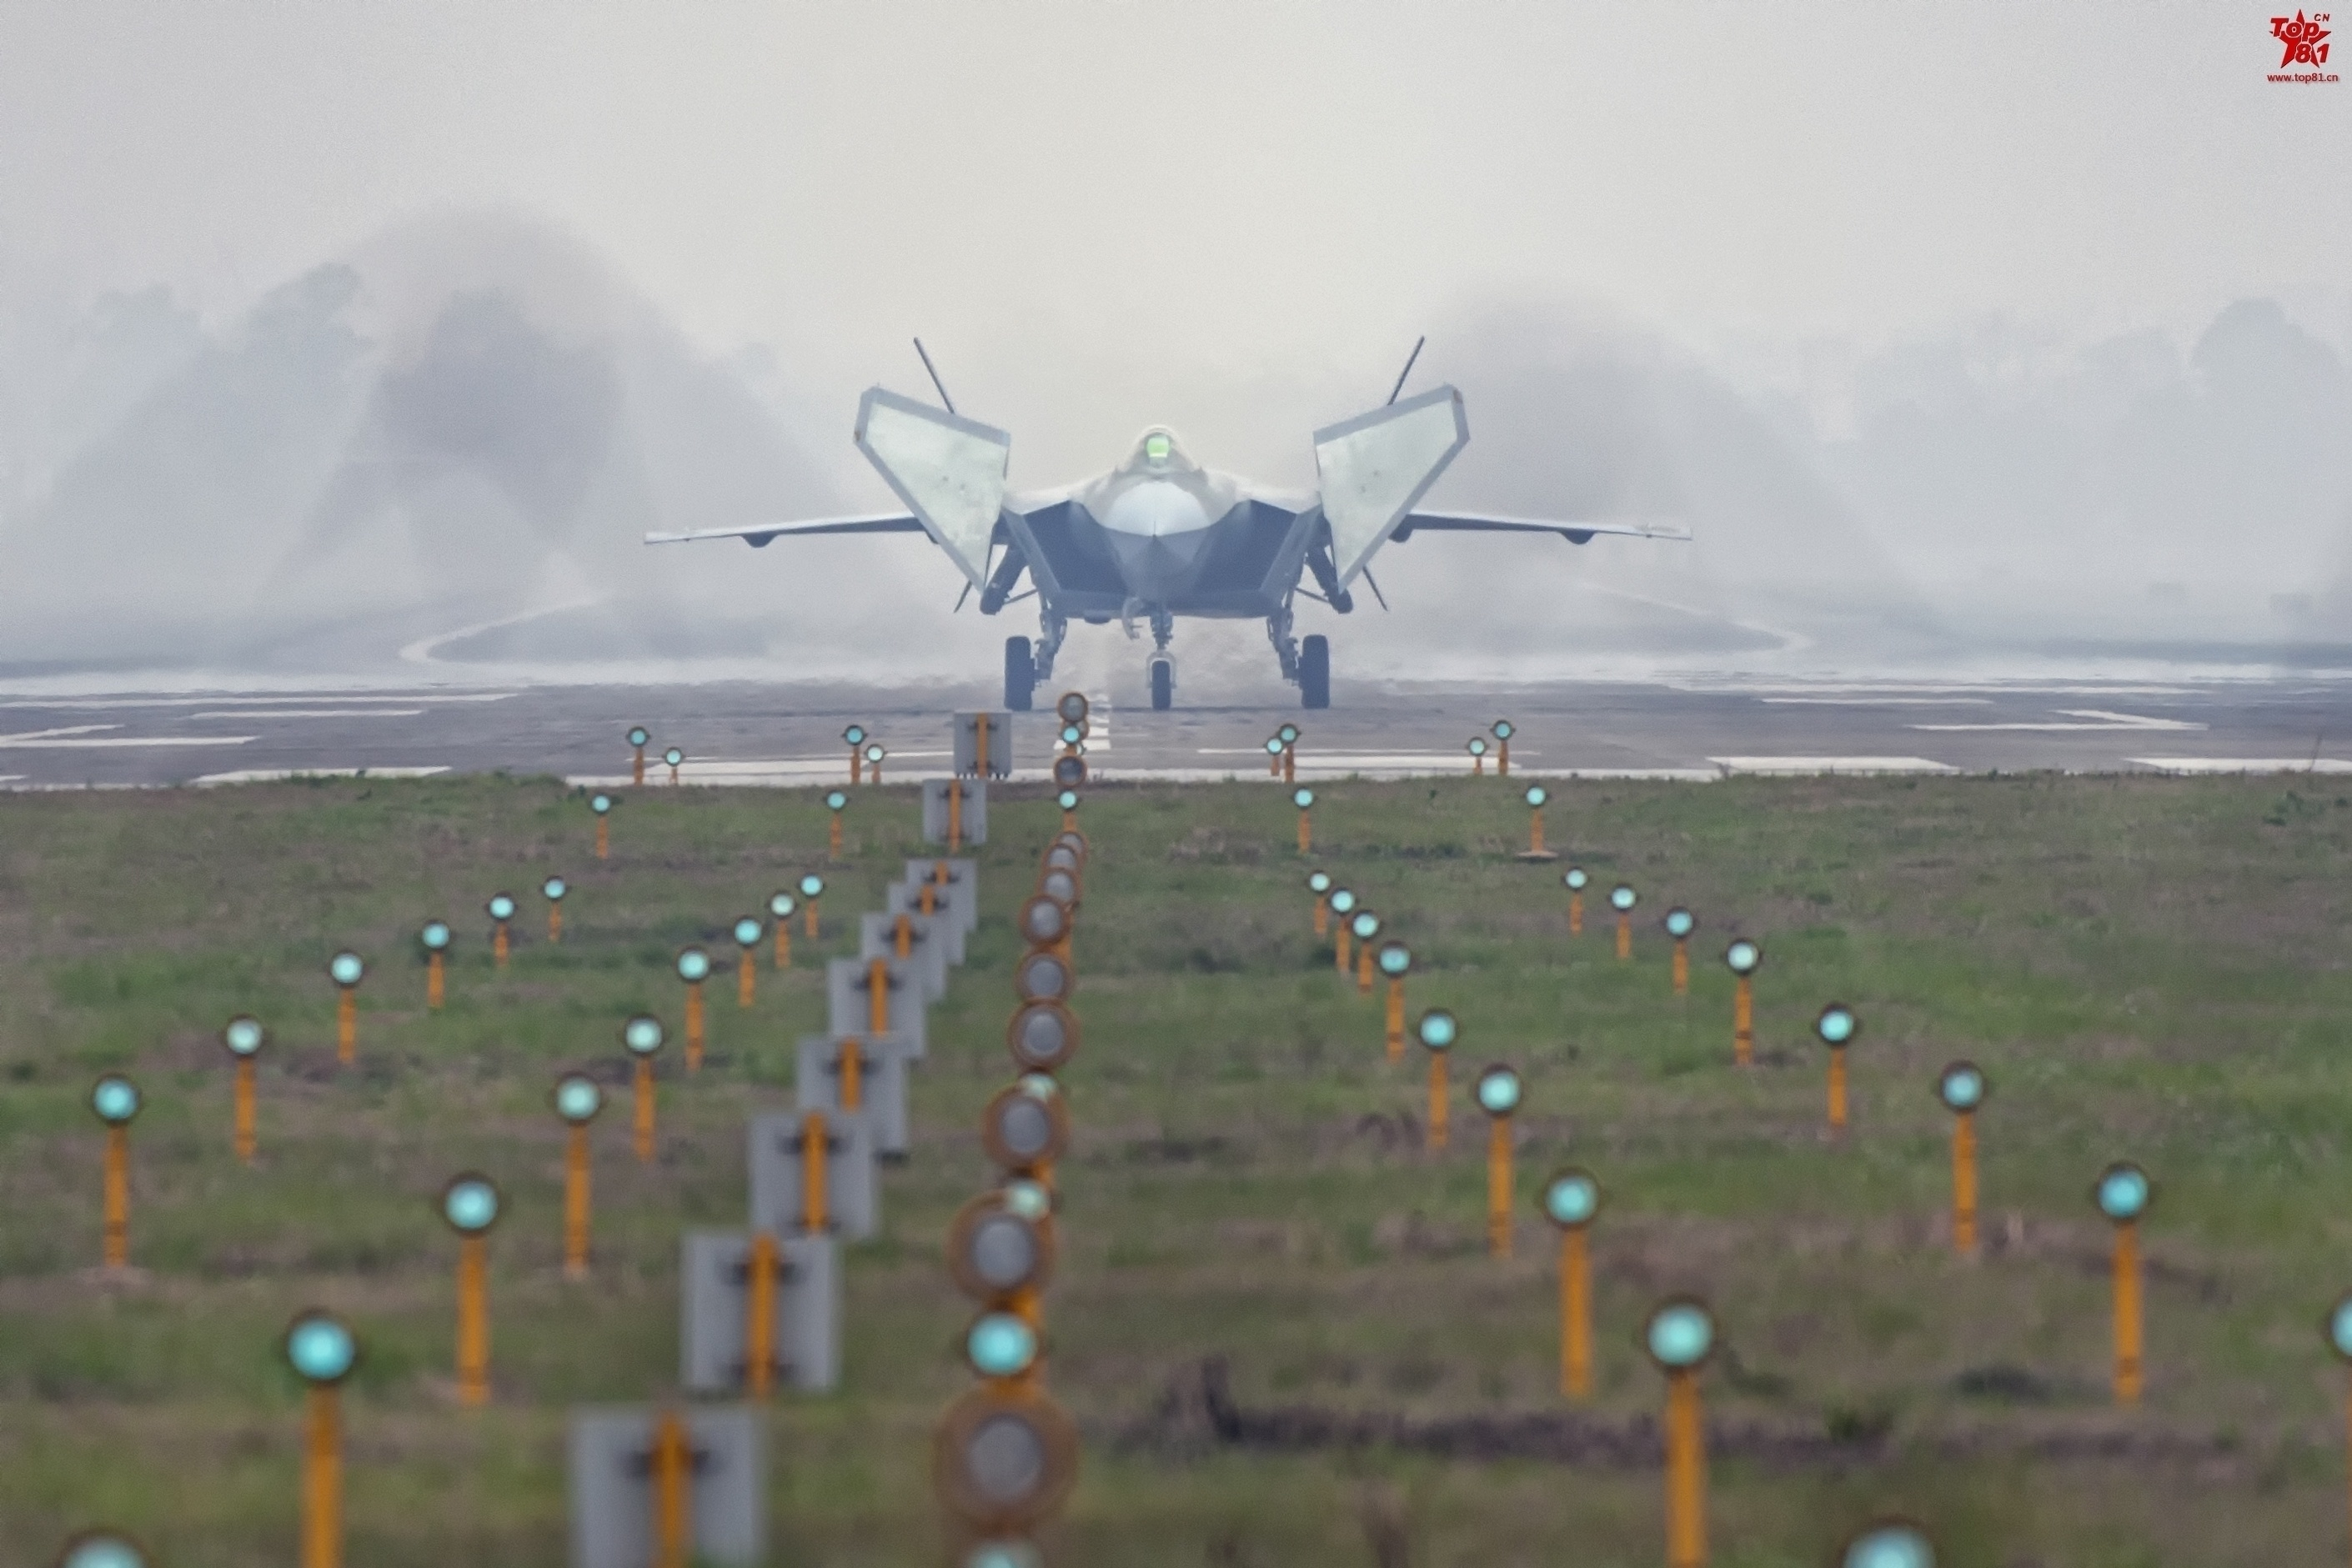J20: (644, 334, 1694, 710)
